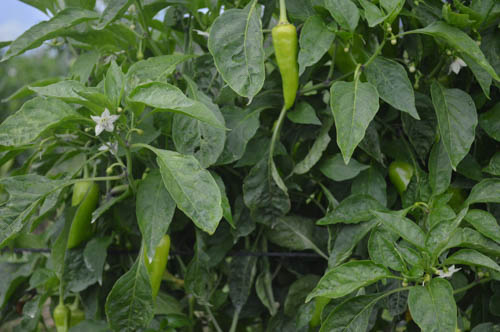ChiliPepper: (387, 161, 460, 211), (271, 26, 304, 109), (73, 187, 101, 246), (144, 237, 172, 295)
